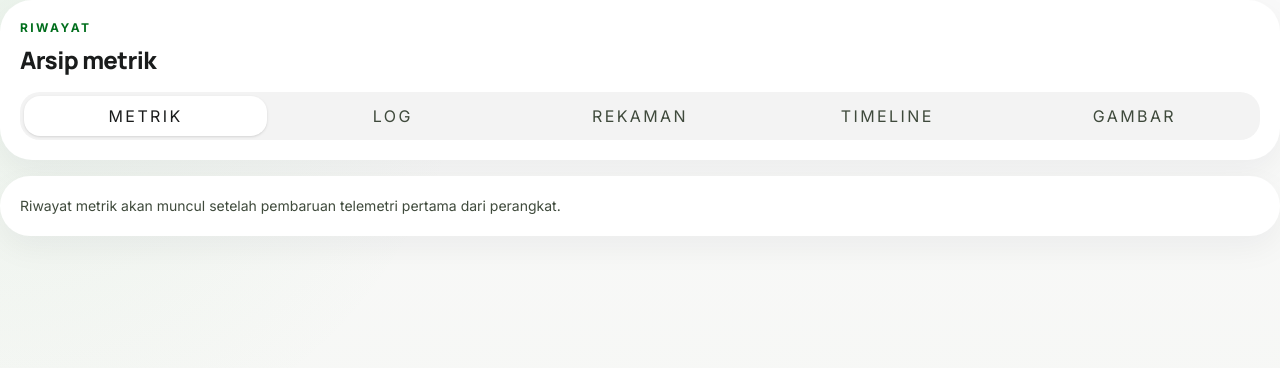
Scenario: HistoryPanel › recordings tab content › shows empty state when no recordings
The width and height of the screenshot is (1280, 368).
Click the button "Rekaman" at {"x": 640, "y": 116}, box [518,96,762,136]
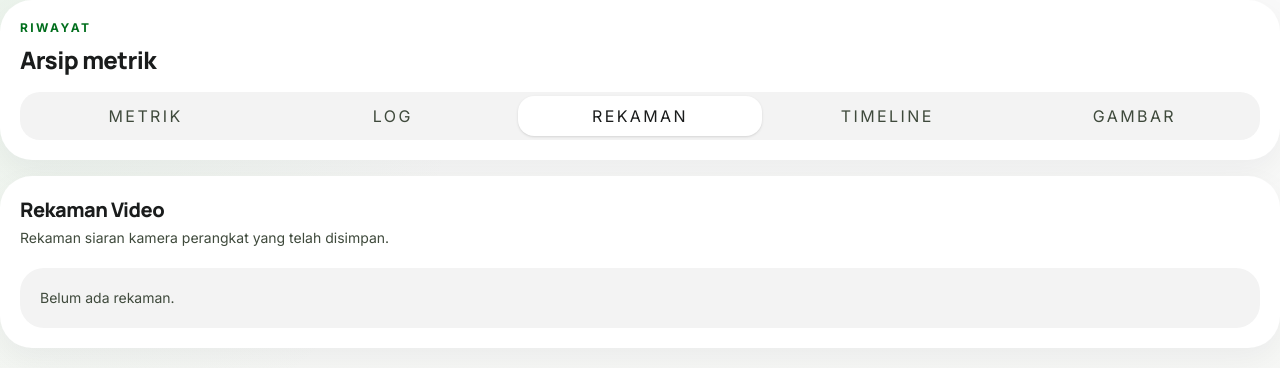
Expected: the text "Belum ada rekaman" is shown, [40,289,175,306]
